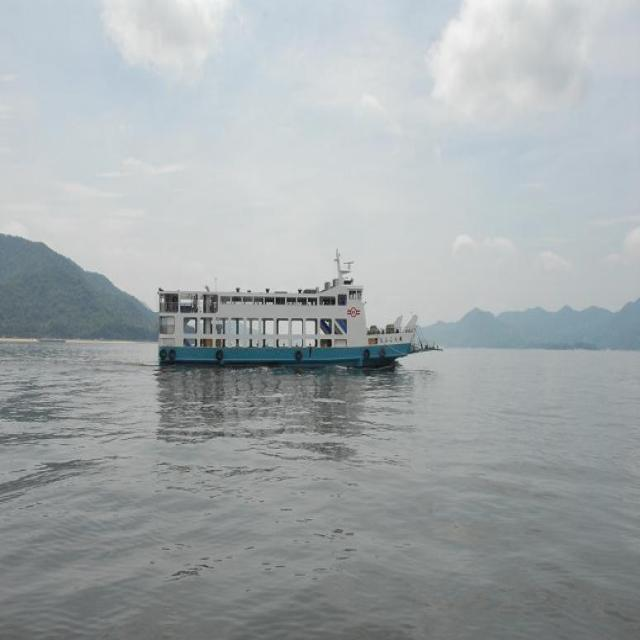houseboat: (146, 264, 429, 372)
